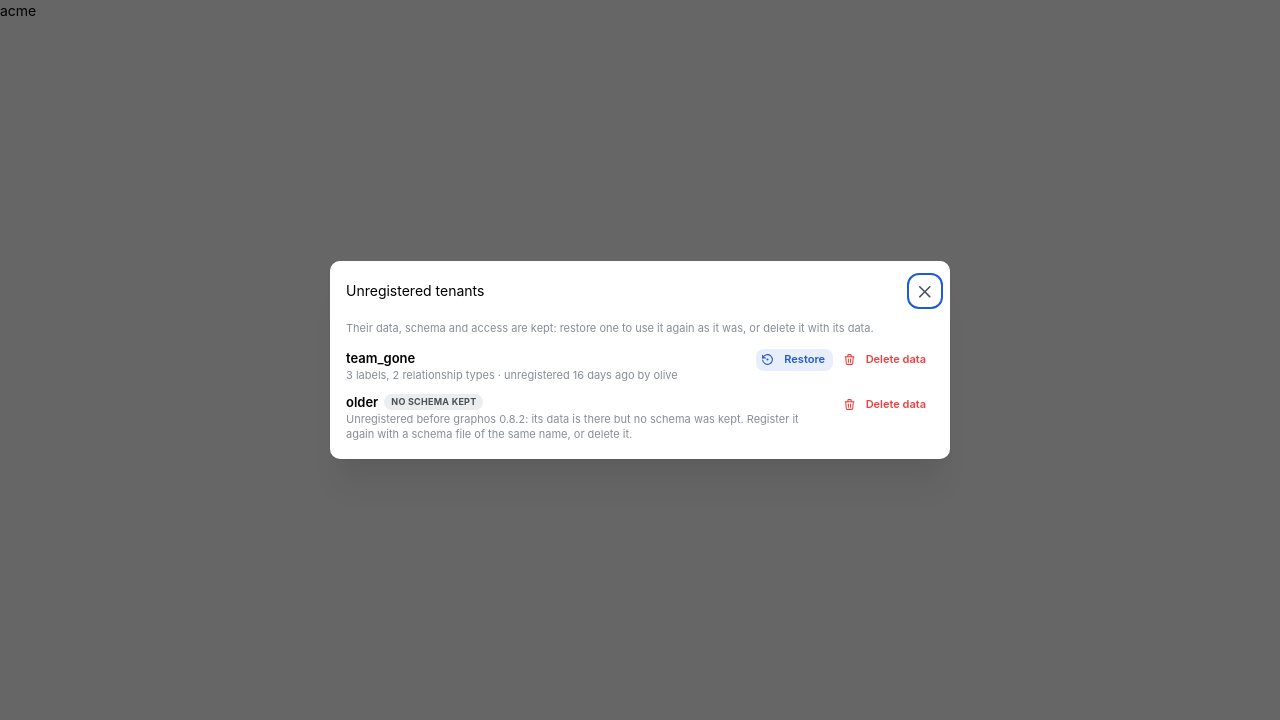
unregistered tenants › lists them, and restores one, which opens
The image size is (1280, 720).
Expected: the text "team_gone" is shown, [346,349,415,368]
Expected: the text "3 labels, 2 relationship types · unregistered" is shown, [346,368,678,382]
Click the button "Restore": click(794, 360) [756,349,833,371]
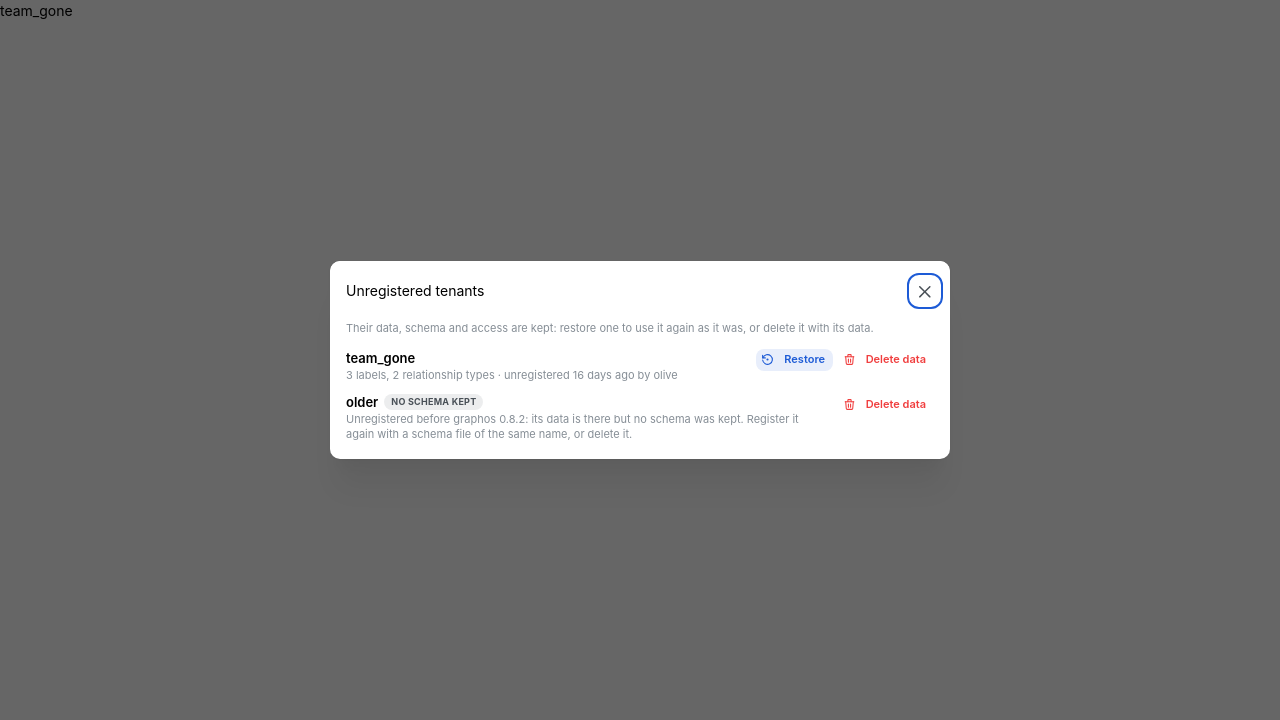
Now the text named "selected" reads "team_gone", box [0,2,73,19]
